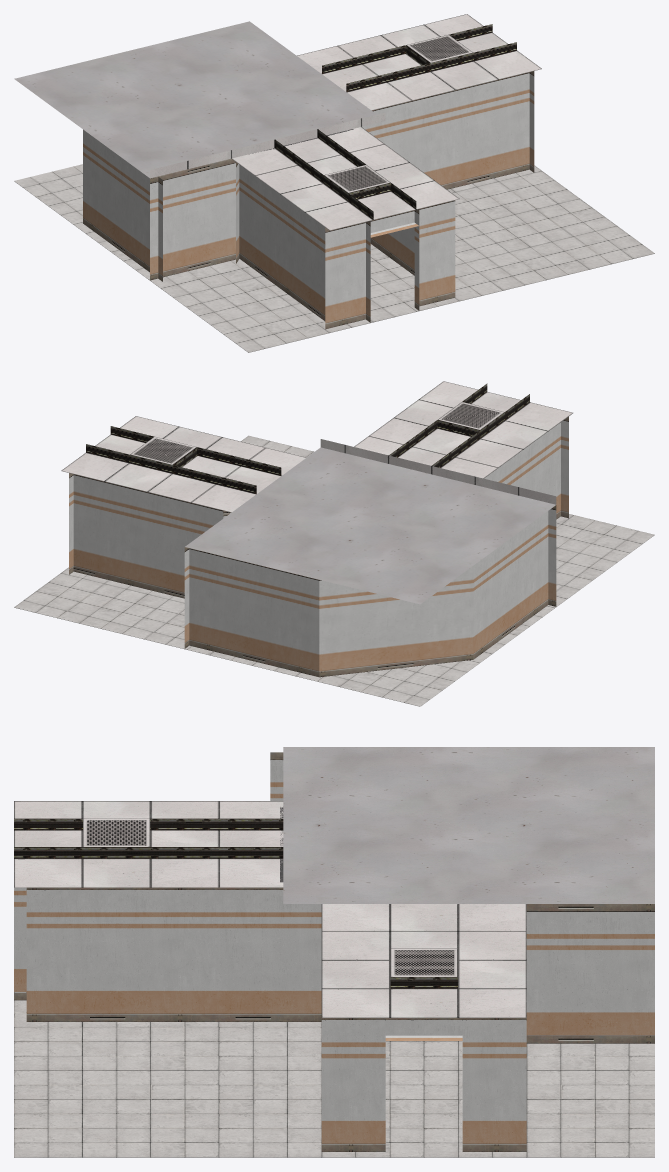
The model's file is RZ_room2C.glb.
3 renders of one model, top to bottom at view 1: azimuth 30°, elevation 25°; view 2: azimuth 150°, elevation 25°; view 3: azimuth 270°, elevation 25°, orthographic. The views are drawn at different scales.
Visible parts, largest first — view 1: OZ_room2C.001; view 2: OZ_room2C.001; view 3: OZ_room2C.001.
Boxes of the visible parts, box(x1,y1,x2,y2) form: OZ_room2C.001: box(14, 14, 654, 352); OZ_room2C.001: box(14, 381, 654, 706); OZ_room2C.001: box(14, 747, 654, 1157).
Bounding box in the file's own units: 16 × 4.17 × 16.
7 materials, 7 textured.
